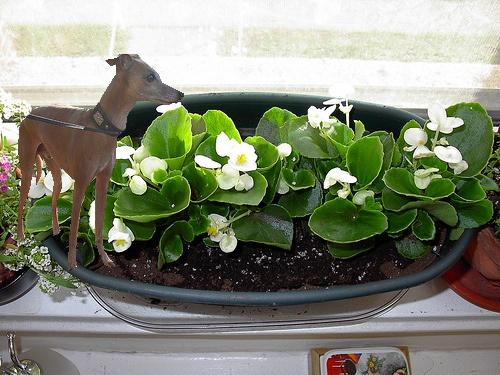tampered: (18, 55, 184, 271)
